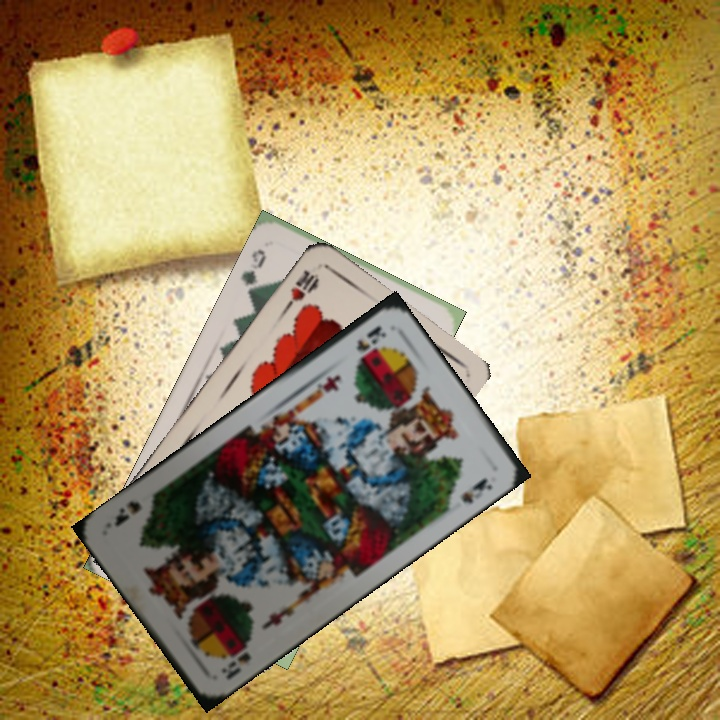G9: (237, 244, 269, 297)
H10: (280, 265, 322, 314)
SK: (217, 634, 257, 683), (352, 321, 389, 354)
